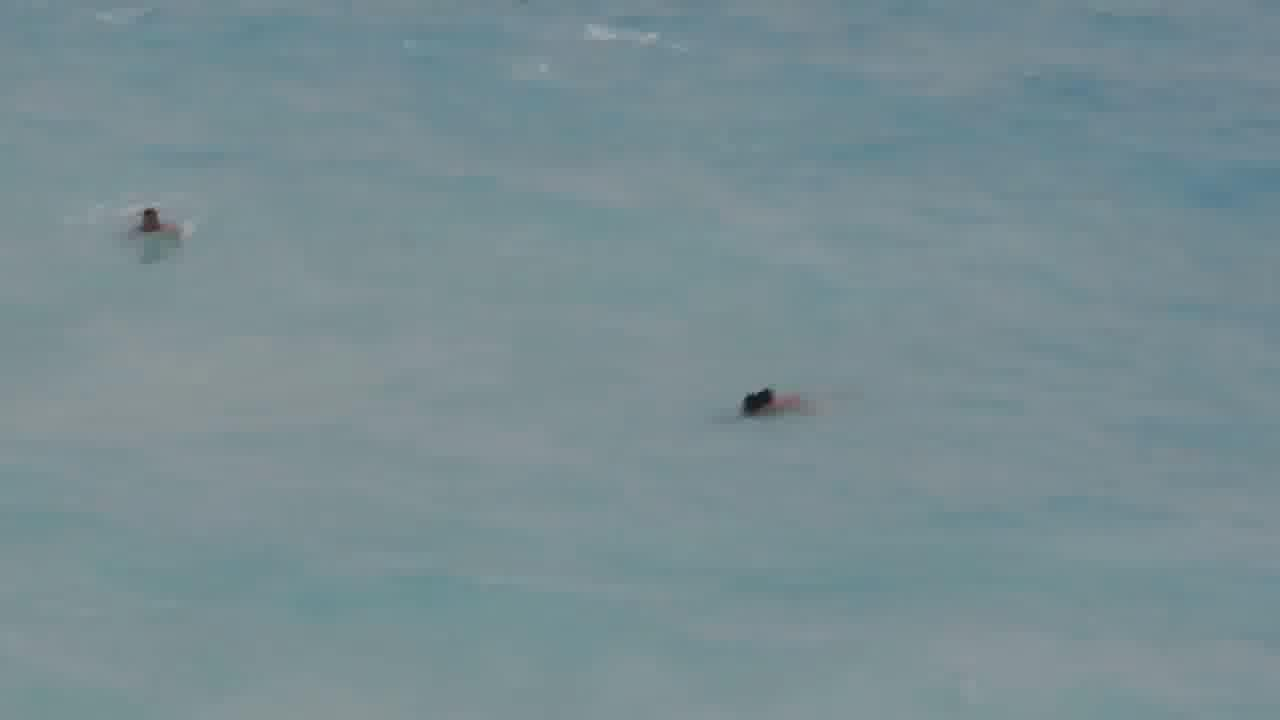human: (123, 190, 191, 248), (729, 374, 807, 422)
